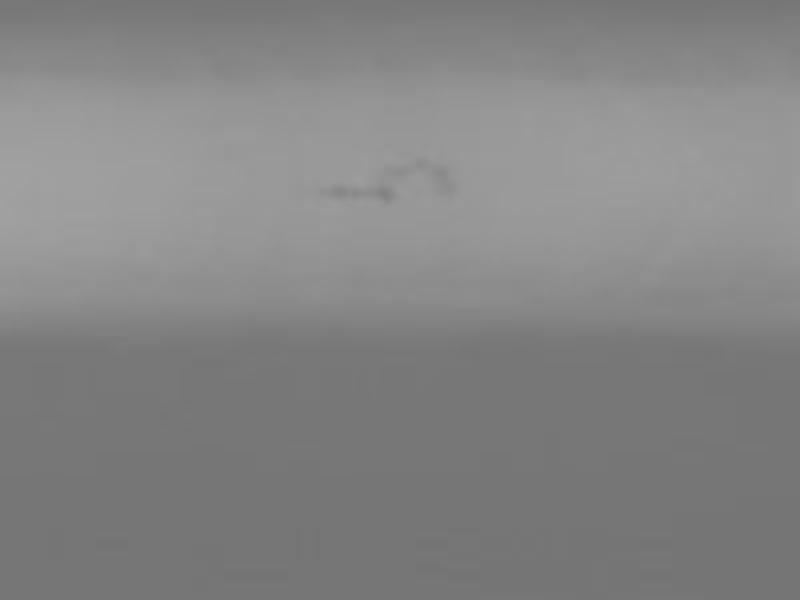defect: (436, 164, 454, 194), (385, 162, 407, 181), (378, 183, 395, 207), (327, 183, 346, 201), (353, 186, 373, 202), (409, 154, 429, 169)
